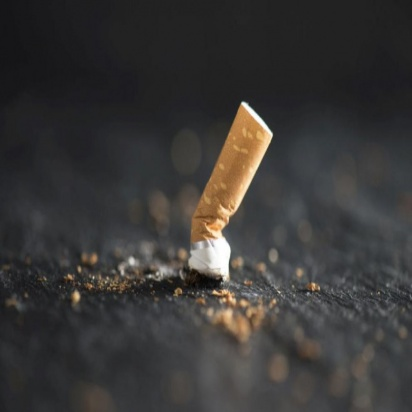cigarette: (180, 96, 277, 296)
